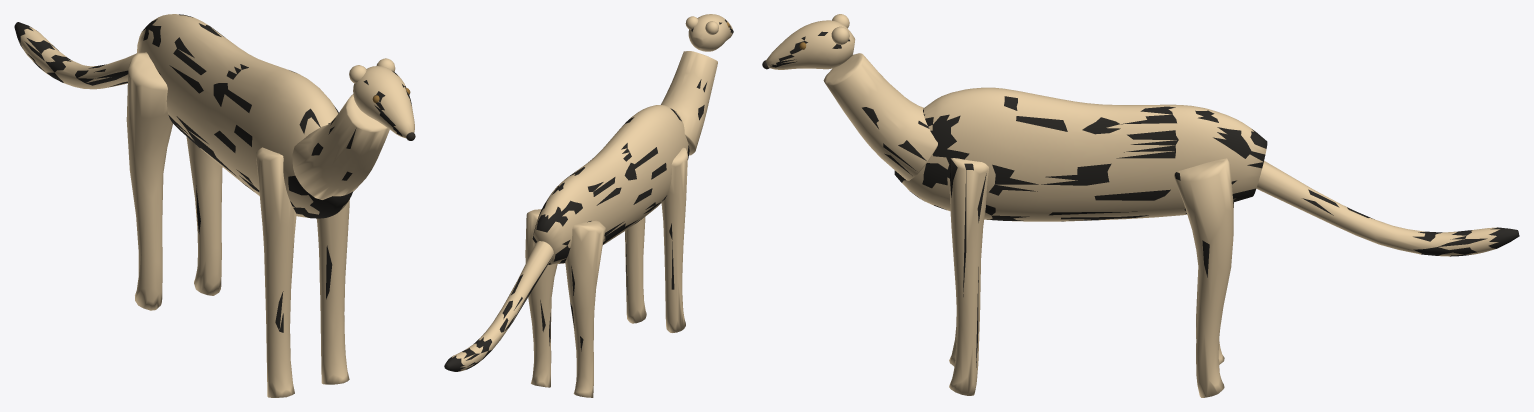
Rendered from cheetah-parts.glb.
The picture shows the model from 3 angles, left to right: view 1: azimuth 30°, elevation 25°; view 2: azimuth 150°, elevation 25°; view 3: azimuth 270°, elevation 25°; orthographic projection. The views are drawn at different scales.
Visible parts, largest first — view 1: Body, Leg_HindRight, Leg_FrontRight, Neck, Leg_FrontLeft, Leg_HindLeft, Tail, Head; view 2: Body, Leg_HindRight, Leg_FrontRight, Neck, Tail, Leg_HindLeft, Leg_FrontLeft, Head; view 3: Body, Leg_HindLeft, Neck, Leg_FrontLeft, Tail, Head.
Boxes of the visible parts, left/top/right/bottom form: Body: left=137, top=14, right=352, bottom=218; Leg_HindRight: left=126, top=52, right=172, bottom=310; Leg_FrontRight: left=256, top=147, right=296, bottom=397; Neck: left=292, top=94, right=389, bottom=199; Leg_FrontLeft: left=316, top=199, right=349, bottom=384; Leg_HindLeft: left=186, top=136, right=222, bottom=295; Tail: left=14, top=22, right=135, bottom=89; Head: left=353, top=66, right=414, bottom=138; Body: left=532, top=105, right=689, bottom=264; Leg_HindRight: left=565, top=220, right=605, bottom=397; Leg_FrontRight: left=661, top=147, right=687, bottom=332; Neck: left=661, top=51, right=717, bottom=155; Tail: left=444, top=241, right=553, bottom=371; Leg_HindLeft: left=525, top=209, right=557, bottom=387; Leg_FrontLeft: left=625, top=217, right=646, bottom=323; Head: left=688, top=14, right=732, bottom=51; Body: left=894, top=87, right=1267, bottom=221; Leg_HindLeft: left=1174, top=158, right=1233, bottom=397; Neck: left=823, top=53, right=937, bottom=180; Leg_FrontLeft: left=949, top=158, right=988, bottom=395; Tail: left=1256, top=160, right=1519, bottom=256; Head: left=766, top=20, right=855, bottom=69.
Size of the model in its own units: 0.2987 by 1.05 by 2.
